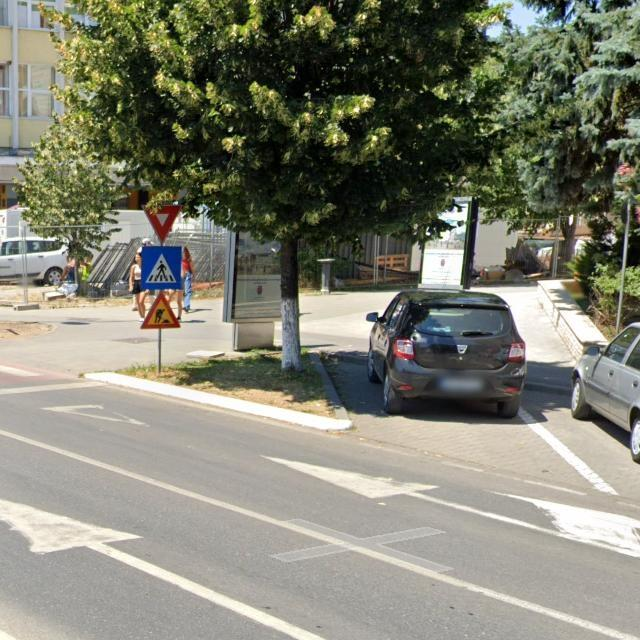info_crosswalk: (140, 245, 183, 290)
prio_give_way: (143, 205, 183, 245)
